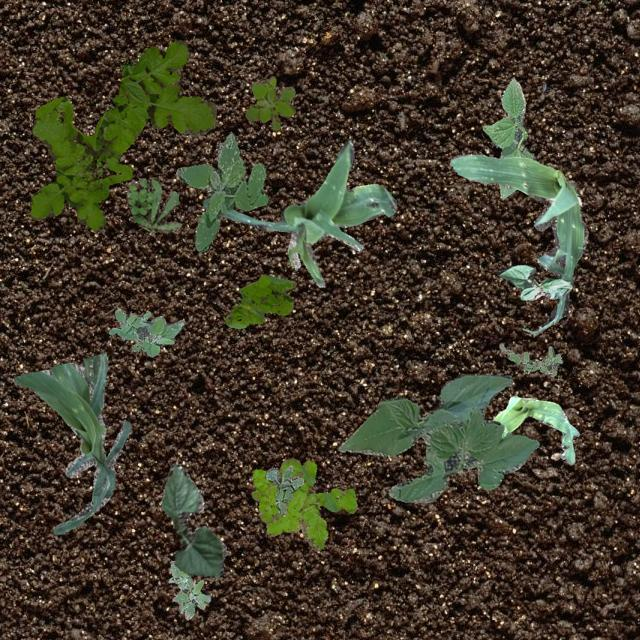crop: (202, 140, 396, 286), (338, 372, 538, 502), (449, 152, 586, 336), (12, 352, 130, 534), (160, 461, 226, 576), (492, 394, 578, 464), (481, 77, 531, 196), (496, 264, 570, 300)
weed: (28, 39, 215, 230), (175, 132, 268, 250), (250, 458, 356, 550), (223, 274, 296, 328), (108, 308, 184, 356), (126, 176, 180, 232), (244, 75, 294, 128), (168, 560, 210, 618), (498, 342, 562, 376), (264, 464, 302, 514)
